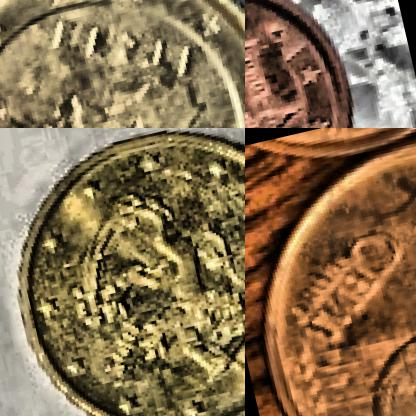coin: (0, 128, 244, 415), (245, 128, 415, 415), (0, 0, 244, 127), (245, 0, 390, 127)
